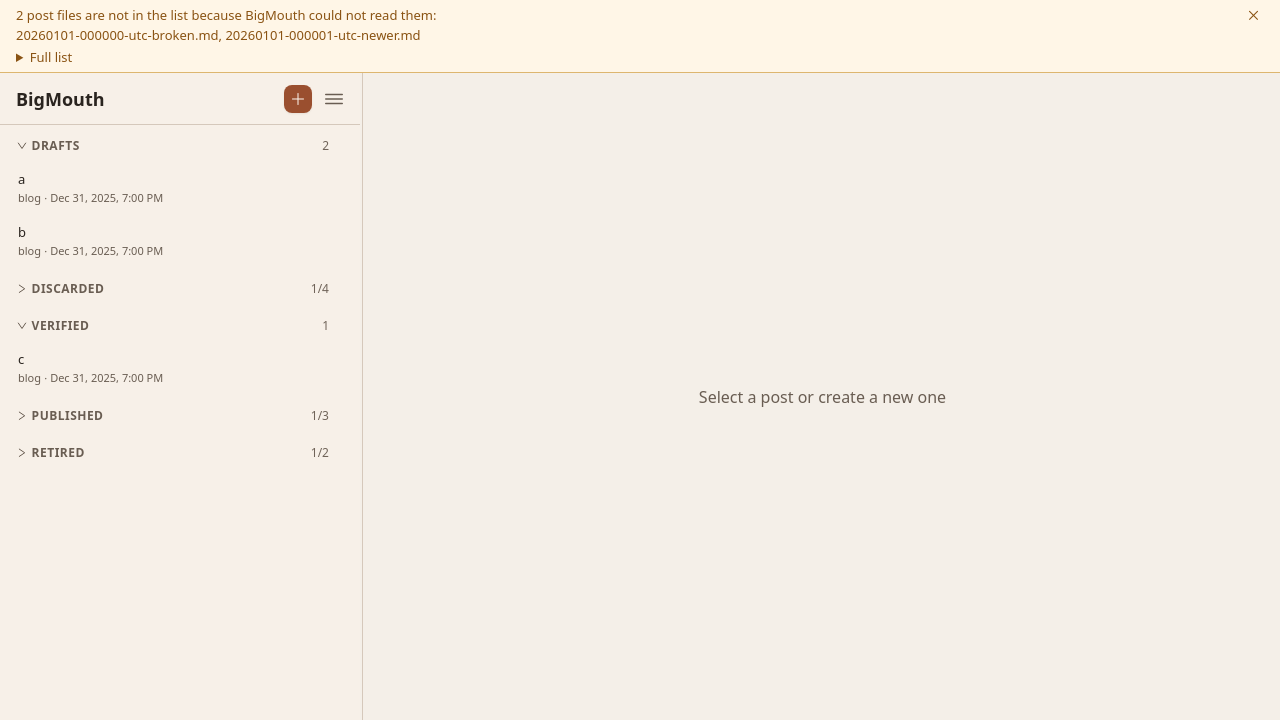
Scenario: WorkspaceSession initial load › names the post files the list left out, until dismissed or the set changes
Expected: the text "2 post files are not in the list because BigMouth could not read them:" is shown, [16,6,436,24]
Expected: the message with class "toolbar-warning" is shown, [0,0,1279,73]
What coordinates should you click on to do the following:
click the button with class "operational-result-dismiss"
I would click on:
 (1253, 15)
Its box is [1242,4,1264,26].
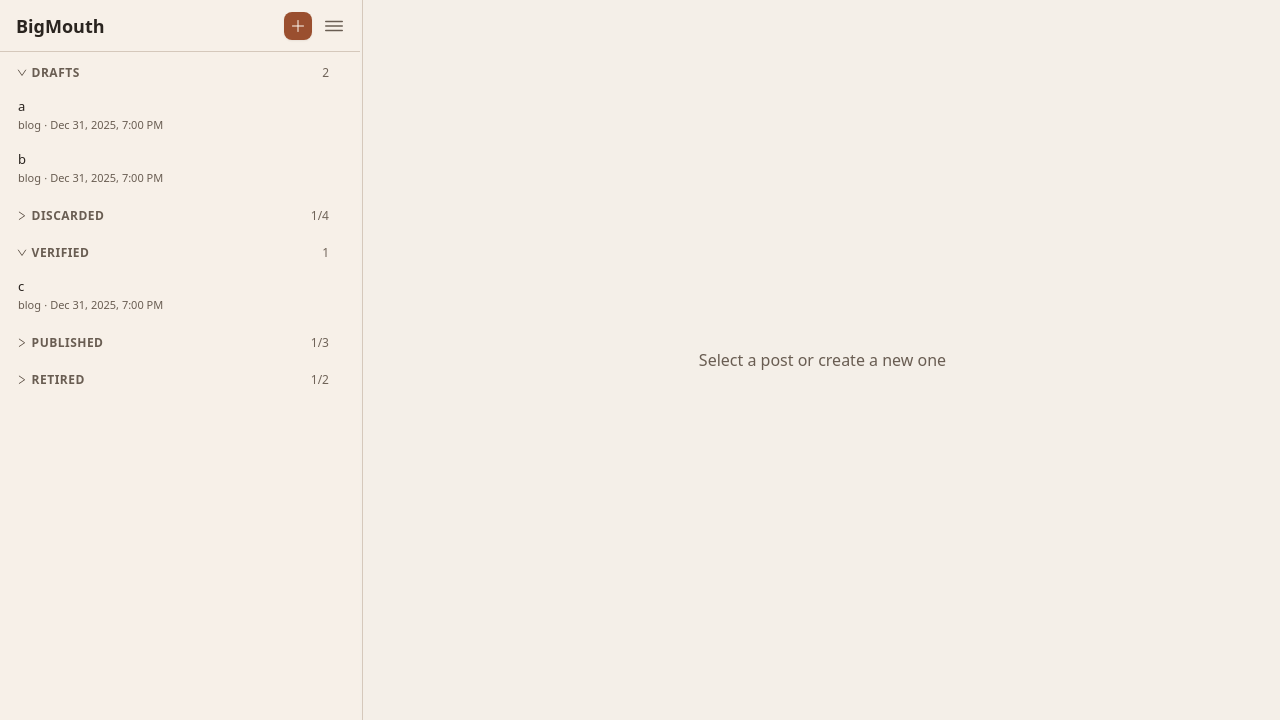
Result: the text "post files are not in the list" is gone
